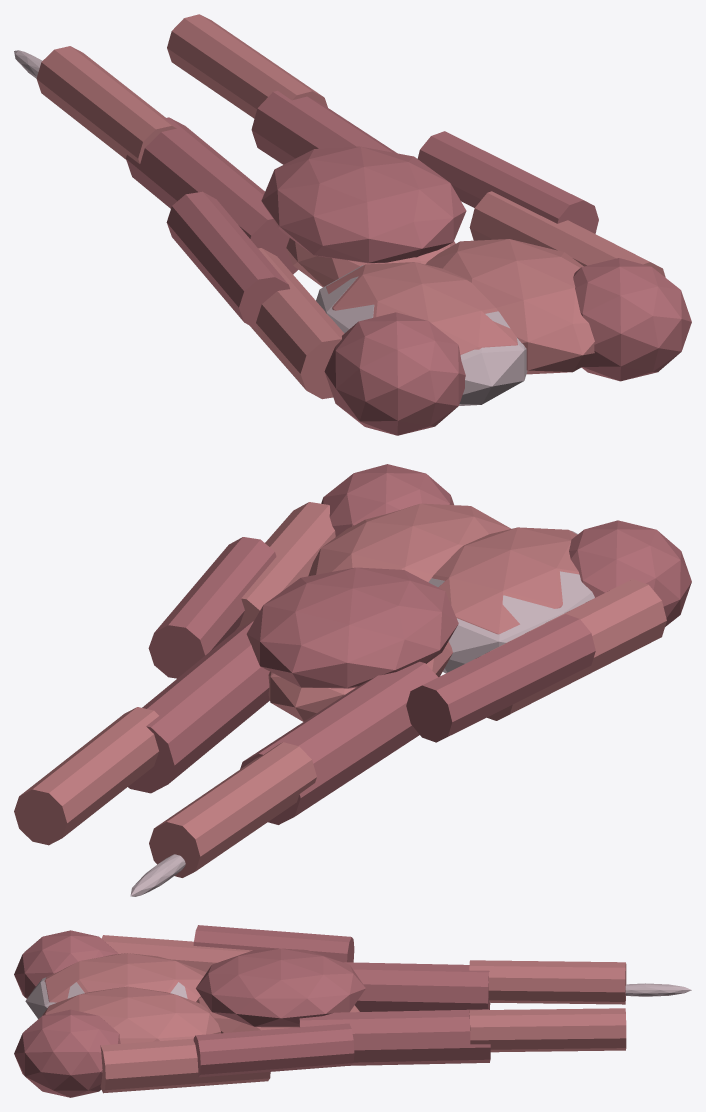
File: muscular-g3-low.glb
The picture shows the model from 3 angles, top to bottom: view 1: azimuth 30°, elevation 25°; view 2: azimuth 150°, elevation 25°; view 3: azimuth 270°, elevation 25°; orthographic projection. The views are drawn at different scales.
Parts seen in each view (by area): view 1: back_muscle_proxy, left_deltoid, right_pectoralis, right_deltoid, left_pectoralis, left_quadriceps, left_triceps_proxy, left_calf, right_calf, right_triceps_proxy, left_biceps, right_quadriceps (+3 smaller); view 2: back_muscle_proxy, left_triceps_proxy, right_quadriceps, left_quadriceps, left_calf, left_pectoralis, right_calf, right_pectoralis, right_triceps_proxy, left_deltoid, left_biceps, right_deltoid (+4 smaller); view 3: back_muscle_proxy, right_quadriceps, right_triceps_proxy, right_deltoid, right_calf, left_quadriceps, left_calf, right_pectoralis, right_biceps, left_pectoralis, left_triceps_proxy, left_deltoid (+4 smaller).
Part boxes in pixels (box(x1,y1,x2,y2)): back_muscle_proxy: box(261, 146, 466, 263); left_deltoid: box(324, 312, 465, 435); right_pectoralis: box(425, 239, 594, 374); right_deltoid: box(573, 258, 691, 381); left_pectoralis: box(326, 262, 517, 354); left_quadriceps: box(126, 117, 298, 274); left_triceps_proxy: box(166, 191, 289, 329); left_calf: box(36, 46, 176, 163); right_calf: box(167, 14, 327, 118); right_triceps_proxy: box(417, 131, 598, 233); left_biceps: box(249, 248, 344, 399); right_quadriceps: box(251, 90, 396, 164); back_muscle_proxy: box(246, 567, 458, 688); left_triceps_proxy: box(406, 614, 595, 742); right_quadriceps: box(128, 621, 269, 793); left_quadriceps: box(240, 661, 437, 824); left_calf: box(149, 742, 316, 877); left_pectoralis: box(432, 527, 579, 634); right_calf: box(14, 707, 158, 845); right_pectoralis: box(308, 503, 511, 582); right_triceps_proxy: box(148, 537, 276, 678); left_deltoid: box(569, 520, 691, 626); left_biceps: box(476, 579, 666, 720); right_deltoid: box(321, 464, 453, 536); back_muscle_proxy: box(196, 948, 365, 1027); right_quadriceps: box(299, 1009, 490, 1065); right_triceps_proxy: box(193, 1023, 354, 1077); right_deltoid: box(14, 1009, 120, 1097); right_calf: box(469, 1008, 626, 1052); left_quadriceps: box(344, 962, 490, 1011); left_calf: box(469, 960, 626, 1004); right_pectoralis: box(42, 986, 220, 1043); right_biceps: box(100, 1038, 270, 1093); left_pectoralis: box(44, 953, 205, 1002); left_triceps_proxy: box(193, 925, 354, 962); left_deltoid: box(14, 930, 118, 998).
Bounding box in the file's own units: 2.17 × 0.73 × 4.78.
